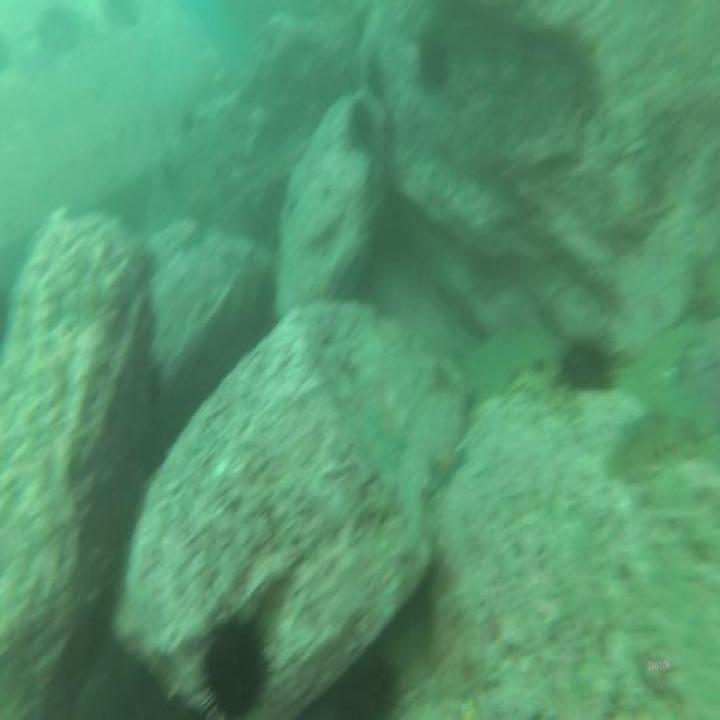echinus: (200, 608, 269, 718), (559, 330, 613, 396), (413, 38, 453, 94), (347, 98, 377, 153)
